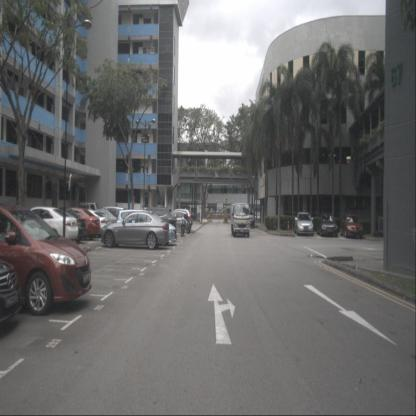vehicle-bicycle: (180, 214, 188, 236)
vehicle-car: (0, 204, 92, 316), (101, 212, 170, 249), (16, 206, 78, 244), (115, 209, 177, 245), (51, 207, 101, 240), (42, 208, 88, 242), (67, 209, 110, 239), (132, 207, 177, 235), (84, 209, 123, 233), (93, 206, 126, 228), (340, 213, 363, 239), (159, 211, 188, 229), (317, 213, 338, 237), (165, 208, 191, 227), (294, 212, 314, 236), (243, 207, 255, 228)
vehicle-motorcycle: (186, 217, 194, 234)
vehicle-truck: (230, 203, 251, 237), (76, 202, 101, 221)
